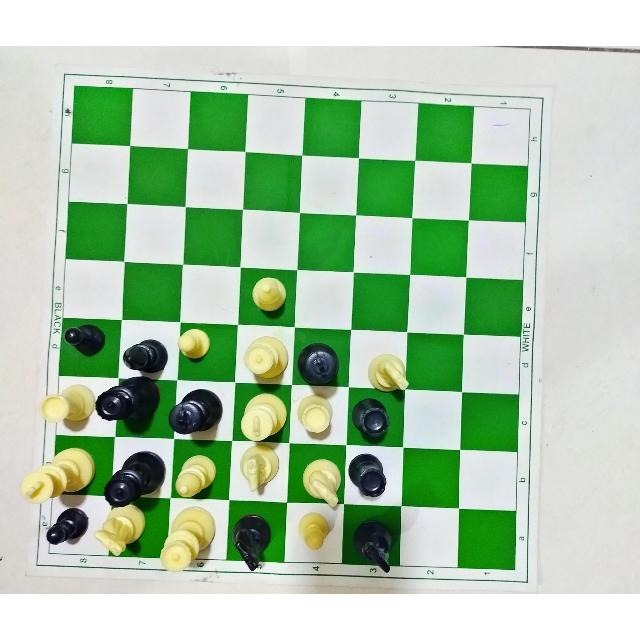black-bishop: (118, 339, 165, 371)
black-king: (166, 386, 218, 435), (302, 340, 340, 386)
black-knight: (354, 521, 393, 577), (234, 513, 266, 573)
black-pawn: (44, 506, 88, 545), (62, 321, 102, 357)
black-queen: (103, 449, 161, 508), (95, 375, 159, 427)
black-rook: (350, 453, 389, 500), (353, 397, 388, 439)
white-bishop: (173, 455, 216, 497), (252, 277, 286, 313)
white-king: (20, 444, 94, 512), (237, 391, 284, 443)
white-knight: (94, 503, 144, 558), (300, 455, 342, 513), (366, 350, 410, 400), (240, 453, 283, 491)
white-pawn: (296, 514, 333, 551), (177, 326, 207, 370)
white-queen: (153, 511, 219, 569), (238, 335, 288, 377)
white-rook: (36, 381, 91, 429), (297, 395, 335, 435)
